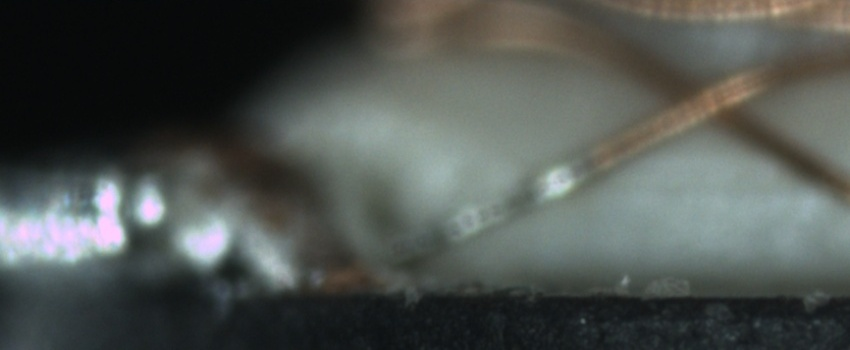CL: (647, 51, 762, 145)
DL: (588, 160, 833, 227)
TS: (384, 155, 591, 262)
